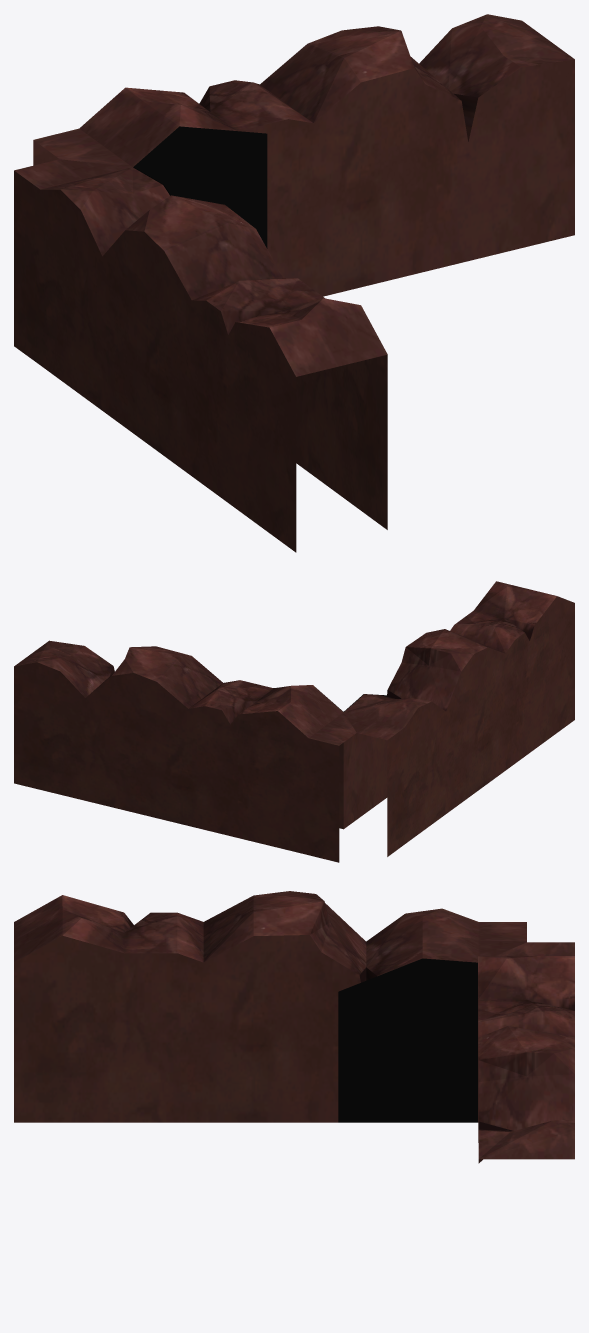
Rendered from lava_broken_concave_01.fbx.
3 views of the same model, one above another, from view 1: azimuth 30°, elevation 25°; view 2: azimuth 150°, elevation 25°; view 3: azimuth 270°, elevation 25° (orthographic). The views are drawn at different scales.
Parts seen in each view (by area): view 1: obj2.004; view 2: obj2.004; view 3: obj2.004.
Part boxes in pixels (box(x1,y1,x2,y2)): obj2.004: box(14, 14, 574, 552); obj2.004: box(14, 581, 574, 862); obj2.004: box(14, 891, 574, 1163).
Bounding box in the file's own units: 4.38 × 1.73 × 4.38.
